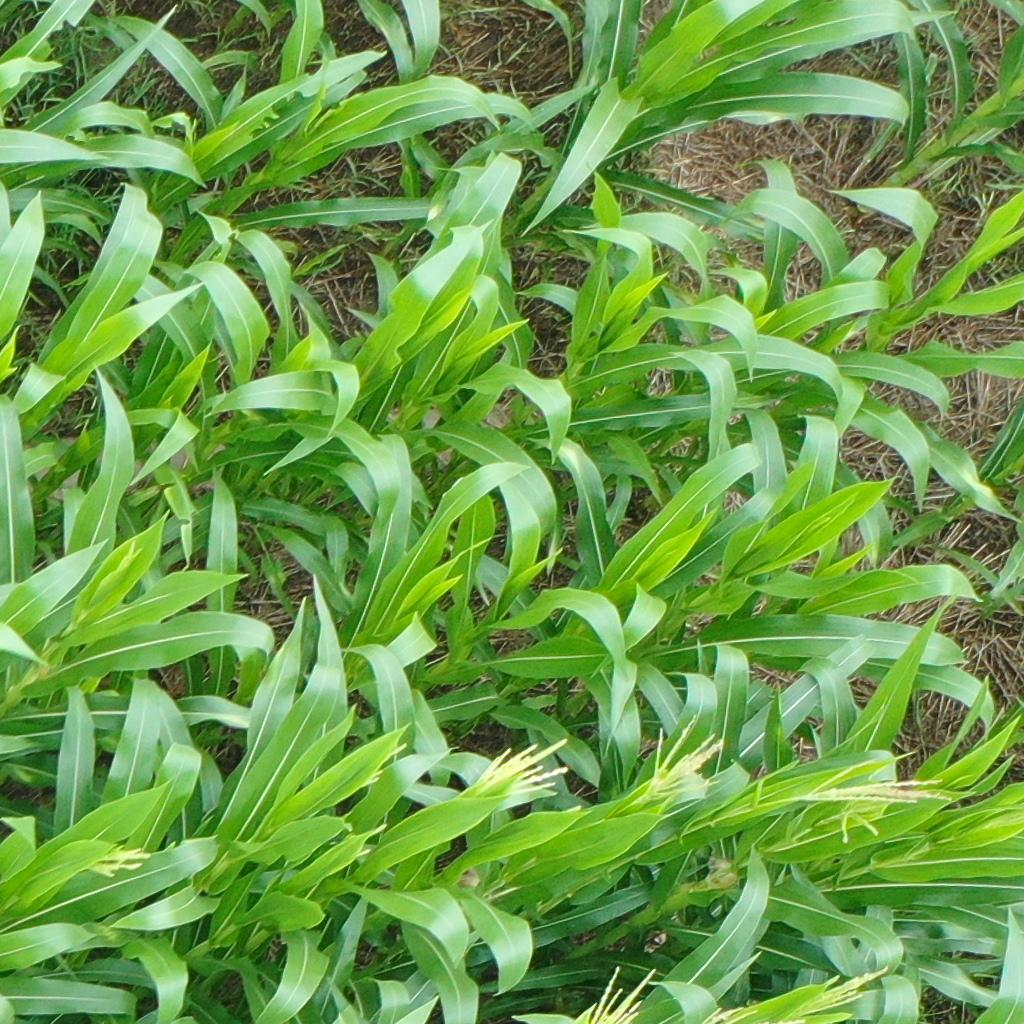Tassel: (800, 774, 956, 844), (652, 710, 726, 808), (473, 736, 570, 801), (577, 962, 659, 1024), (800, 964, 893, 1017), (79, 843, 153, 880), (359, 743, 408, 790), (698, 1005, 804, 1024), (352, 821, 389, 861), (109, 538, 144, 573)
